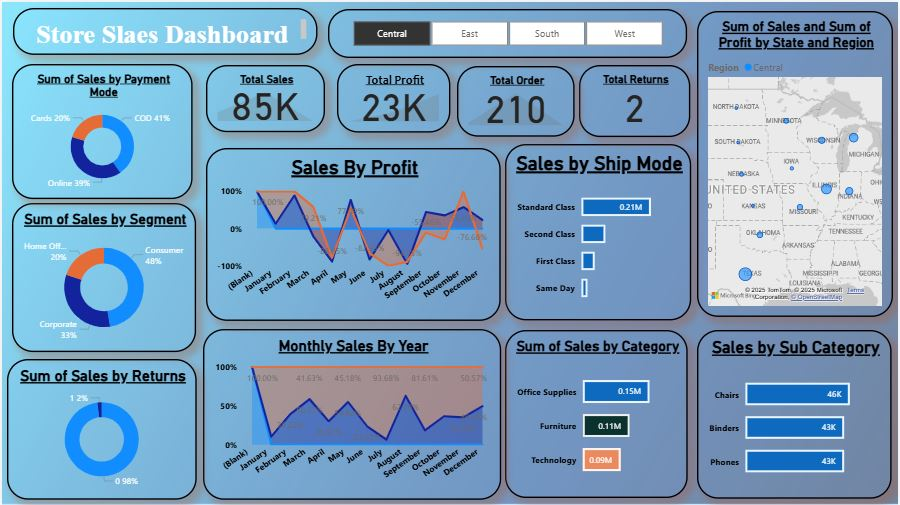

Layout of this report page (visuals, bound fields, positions):
{"tool":"powerbi","page":{"name":"Page 1","canvas":[1280,720],"ordinal":0},"visuals":[{"type":"clusteredBarChart","fields":{"Y":["Sum(SuperStore_Sales_Dataset.Sales)"],"Category":["SuperStore_Sales_Dataset.Category"]},"box":[718.5,468.1,261.3,239.5],"z":0},{"type":"clusteredBarChart","title":" Sales by Sub Category","fields":{"Y":["Sum(SuperStore_Sales_Dataset.Sales)"],"Category":["SuperStore_Sales_Dataset.Sub-Category"]},"box":[992.3,468.1,278.4,241.1],"z":1000},{"type":"clusteredBarChart","title":"Sales by Ship Mode","fields":{"Y":["Sum(SuperStore_Sales_Dataset.Sales)"],"Category":["SuperStore_Sales_Dataset.Ship Mode"]},"box":[718.5,202.2,266,252],"z":2000},{"type":"hundredPercentStackedAreaChart","title":" Monthly Sales By Year","fields":{"Y":["Sum(SuperStore_Sales_Dataset.Sales)"],"Category":["SuperStore_Sales_Dataset.Order Date.Variation.Date Hierarchy.Month"],"Series":["SuperStore_Sales_Dataset.Order Date.Variation.Date Hierarchy.Year"]},"box":[287.7,466.6,426.1,244.2],"z":3000},{"type":"hundredPercentStackedAreaChart","title":"Sales By Profit ","fields":{"Category":["SuperStore_Sales_Dataset.Order Date.Variation.Date Hierarchy.Month"],"Series":["SuperStore_Sales_Dataset.Order Date.Variation.Date Hierarchy.Year"],"Y":["Sum(SuperStore_Sales_Dataset.Profit)"]},"box":[290.8,208.4,421.5,247.3],"z":4000},{"type":"map","fields":{"Series":["SuperStore_Sales_Dataset.Region"],"Size":["Sum(SuperStore_Sales_Dataset.Sales)"],"Category":["SuperStore_Sales_Dataset.State"]},"box":[991.7,11.7,278.3,438.3],"z":5000},{"type":"donutChart","fields":{"Category":["SuperStore_Sales_Dataset.Segment"],"Y":["Sum(SuperStore_Sales_Dataset.Sales)"]},"box":[14,287.7,262.8,213.1],"z":6000},{"type":"donutChart","fields":{"Category":["SuperStore_Sales_Dataset.Payment Mode"],"Y":["Sum(SuperStore_Sales_Dataset.Sales)"]},"box":[14,88.7,258.2,192.9],"z":7000},{"type":"donutChart","fields":{"Category":["SuperStore_Sales_Dataset.Returns"],"Y":["Sum(SuperStore_Sales_Dataset.Sales)"]},"box":[7.8,510.1,270.6,200.6],"z":8000},{"type":"slicer","fields":{"Values":["SuperStore_Sales_Dataset.Region"]},"box":[465,9.3,513.2,70],"z":9000},{"type":"kpi","title":"Total Sales","fields":{"Indicator":["Sum(SuperStore_Sales_Dataset.Sales)"],"TrendLine":["SuperStore_Sales_Dataset.Category"]},"box":[290.8,90.2,169.5,96.4],"z":10000},{"type":"kpi","title":"Total Profit","fields":{"TrendLine":["SuperStore_Sales_Dataset.Category"],"Indicator":["Sum(SuperStore_Sales_Dataset.Profit)"]},"box":[479,88.7,161.7,98],"z":11000},{"type":"kpi","title":"Total Returns","fields":{"TrendLine":["SuperStore_Sales_Dataset.Category"],"Indicator":["Count(SuperStore_Sales_Dataset.Returns)"]},"box":[824.3,90.2,158.6,102.6],"z":12000},{"type":"textbox","box":[16,8,435,67],"z":13000},{"type":"kpi","title":"Total Order","fields":{"TrendLine":["SuperStore_Sales_Dataset.Category"],"Indicator":["Count(SuperStore_Sales_Dataset.Order ID)"]},"box":[650.1,91.8,168,101.1],"z":14000}]}

Visuals, with their boxes in screenshot pixels (x1, y1, x2, y2), scaled from the page's 1280x720 canvas onto the 900x505 screenshot:
clusteredBarChart - Sum(SuperStore_Sales_Dataset.Sales) x SuperStore_Sales_Dataset.Category: bbox=[505, 328, 689, 496]
" Sales by Sub Category" clusteredBarChart: bbox=[698, 328, 893, 497]
"Sales by Ship Mode" clusteredBarChart: bbox=[505, 142, 692, 319]
" Monthly Sales By Year" hundredPercentStackedAreaChart: bbox=[202, 327, 502, 499]
"Sales By Profit " hundredPercentStackedAreaChart: bbox=[204, 146, 501, 320]
map - SuperStore_Sales_Dataset.Region x Sum(SuperStore_Sales_Dataset.Sales): bbox=[697, 8, 893, 316]
donutChart - SuperStore_Sales_Dataset.Segment x Sum(SuperStore_Sales_Dataset.Sales): bbox=[10, 202, 195, 351]
donutChart - SuperStore_Sales_Dataset.Payment Mode x Sum(SuperStore_Sales_Dataset.Sales): bbox=[10, 62, 191, 198]
donutChart - SuperStore_Sales_Dataset.Returns x Sum(SuperStore_Sales_Dataset.Sales): bbox=[5, 358, 196, 498]
slicer - SuperStore_Sales_Dataset.Region: bbox=[327, 7, 688, 56]
"Total Sales" kpi: bbox=[204, 63, 324, 131]
"Total Profit" kpi: bbox=[337, 62, 450, 131]
"Total Returns" kpi: bbox=[580, 63, 691, 135]
textbox: bbox=[11, 6, 317, 53]
"Total Order" kpi: bbox=[457, 64, 575, 135]
